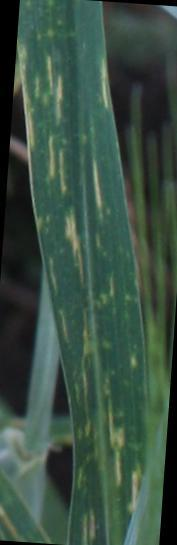Wheat: (48, 147, 121, 309), (78, 403, 144, 539), (25, 34, 74, 143), (66, 323, 140, 390)
